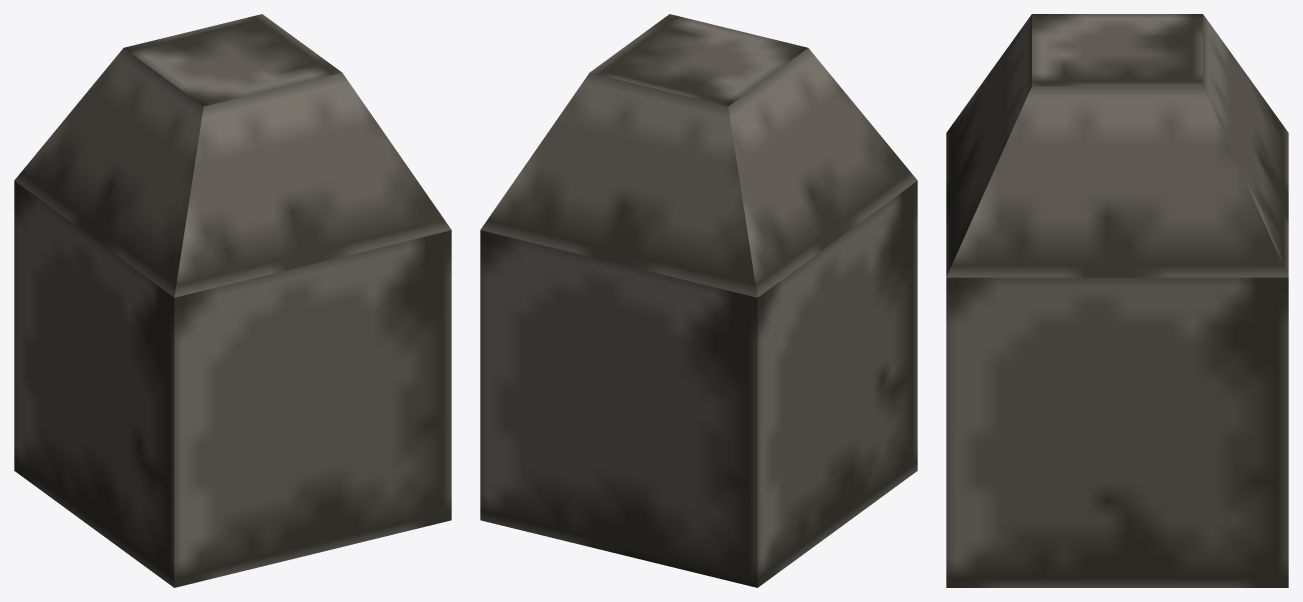
File: Top_Corner.fbx
3 renders of one model, left to right at view 1: azimuth 30°, elevation 25°; view 2: azimuth 150°, elevation 25°; view 3: azimuth 270°, elevation 25°, orthographic. The views are drawn at different scales.
Visible parts, largest first — view 1: Top_Corner; view 2: Top_Corner; view 3: Top_Corner.
Boxes of the visible parts, x1,y1,x2,y2 form: Top_Corner: [14, 14, 451, 587]; Top_Corner: [480, 14, 917, 587]; Top_Corner: [946, 14, 1288, 587].
Size of the model in its own units: 100 by 150 by 100.
Materials: 1 (1 with a texture image).
